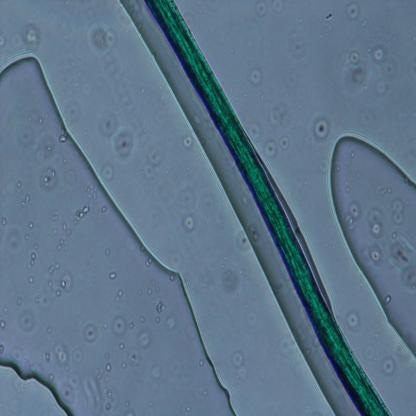Air bubble: (0, 50, 235, 415), (328, 129, 416, 358)
Background material: (364, 196, 416, 298), (19, 128, 59, 192), (347, 46, 397, 95), (105, 54, 137, 115), (42, 252, 76, 301), (54, 204, 92, 246), (260, 87, 292, 128), (85, 21, 118, 55), (125, 327, 151, 369), (110, 126, 138, 164), (231, 332, 250, 377), (146, 131, 164, 178), (262, 136, 292, 161), (15, 304, 37, 338), (218, 260, 240, 290), (230, 225, 252, 255), (60, 372, 83, 399), (288, 31, 309, 60), (51, 343, 70, 375), (23, 250, 39, 287), (22, 25, 43, 52), (95, 353, 113, 384), (77, 321, 101, 344), (340, 208, 364, 231), (342, 309, 364, 332), (0, 29, 23, 50), (314, 115, 330, 142), (8, 229, 25, 253), (247, 66, 264, 90), (102, 390, 118, 415), (381, 356, 399, 378), (154, 299, 170, 323), (99, 159, 115, 183), (110, 315, 127, 337), (181, 212, 198, 233), (7, 340, 22, 363), (179, 132, 196, 152), (252, 0, 270, 18), (344, 3, 361, 22), (148, 362, 163, 381), (0, 210, 13, 230), (72, 346, 88, 362), (86, 182, 100, 200), (34, 110, 50, 124), (112, 286, 126, 302), (18, 195, 32, 207), (123, 406, 137, 416), (148, 285, 158, 299), (44, 348, 53, 362), (23, 219, 34, 230), (0, 340, 6, 356), (0, 319, 8, 330), (109, 272, 119, 280), (100, 206, 110, 214), (196, 358, 204, 367), (24, 230, 29, 242)
Microfibre: (147, 0, 397, 414)
